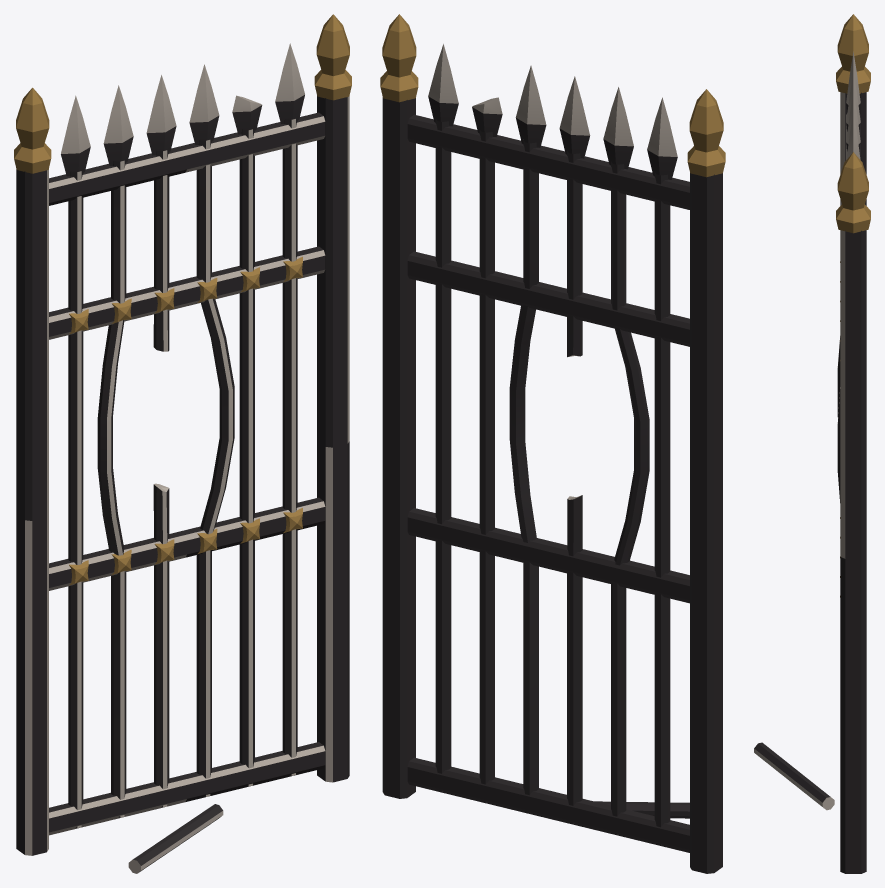
The model's file is grating-1.glb.
3 views of the same model, side by side, from view 1: azimuth 30°, elevation 25°; view 2: azimuth 150°, elevation 25°; view 3: azimuth 270°, elevation 25° (orthographic). The views are drawn at different scales.
Parts seen in each view (by area): view 1: grating-1; view 2: grating-1; view 3: grating-1.
Boxes of the visible parts, bbox=[...] form: grating-1: bbox=[14, 14, 351, 873]; grating-1: bbox=[380, 14, 725, 873]; grating-1: bbox=[754, 14, 870, 873].
Size of the model in its own units: 1.05 by 2.28 by 0.336.
